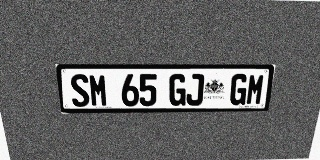5: (139, 74, 157, 106)
6: (121, 74, 139, 106)
G: (229, 74, 249, 105), (169, 74, 187, 106)
J: (186, 74, 204, 106)
M: (88, 74, 108, 107), (245, 74, 266, 105)
S: (69, 74, 90, 107)
